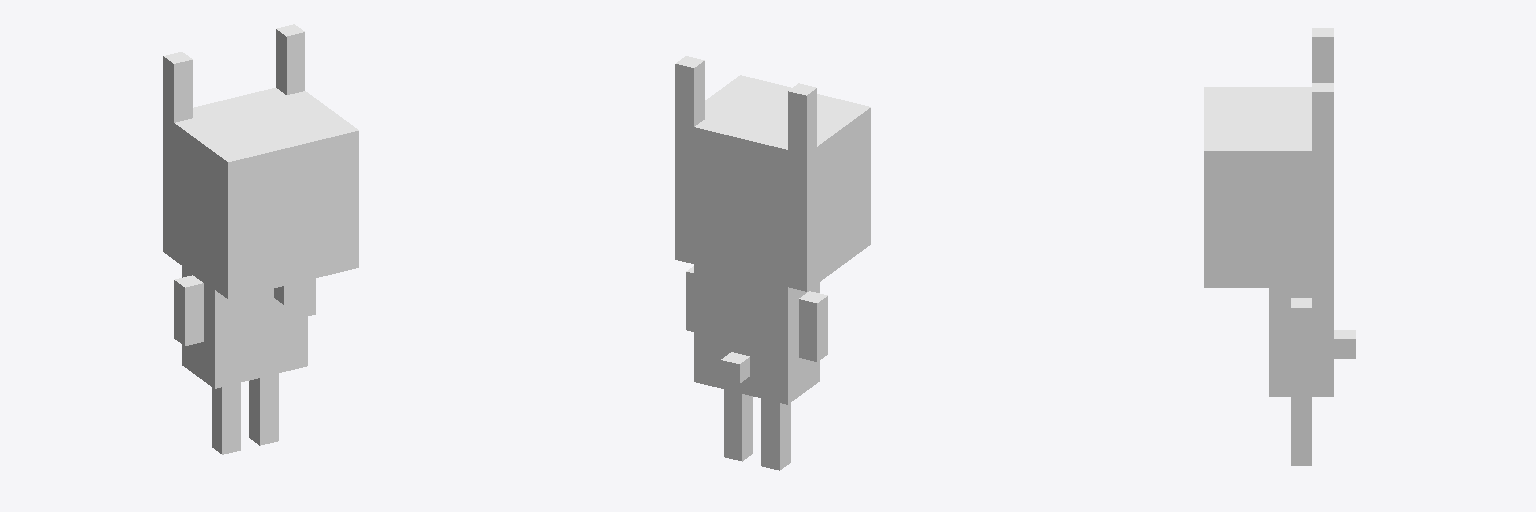
Rendered from gir.obj.
3 renders of one model, left to right at view 1: azimuth 30°, elevation 25°; view 2: azimuth 150°, elevation 25°; view 3: azimuth 270°, elevation 25°, orthographic.
Visible parts, largest first — view 1: object 1; view 2: object 1; view 3: object 1.
Boxes of the visible parts, x1,y1,x2,y2 form: object 1: [163, 24, 358, 454]; object 1: [675, 56, 870, 470]; object 1: [1204, 28, 1355, 465].
Size of the model in its own units: 0.7 by 2 by 0.7.